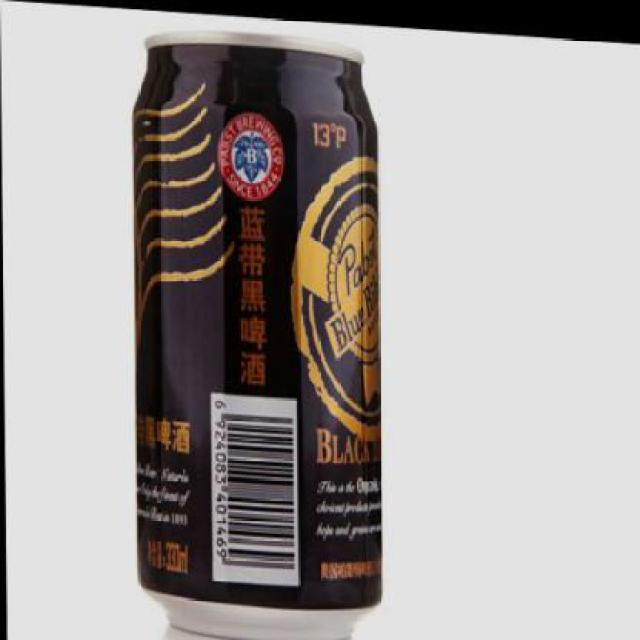Metal: (126, 27, 389, 640)
